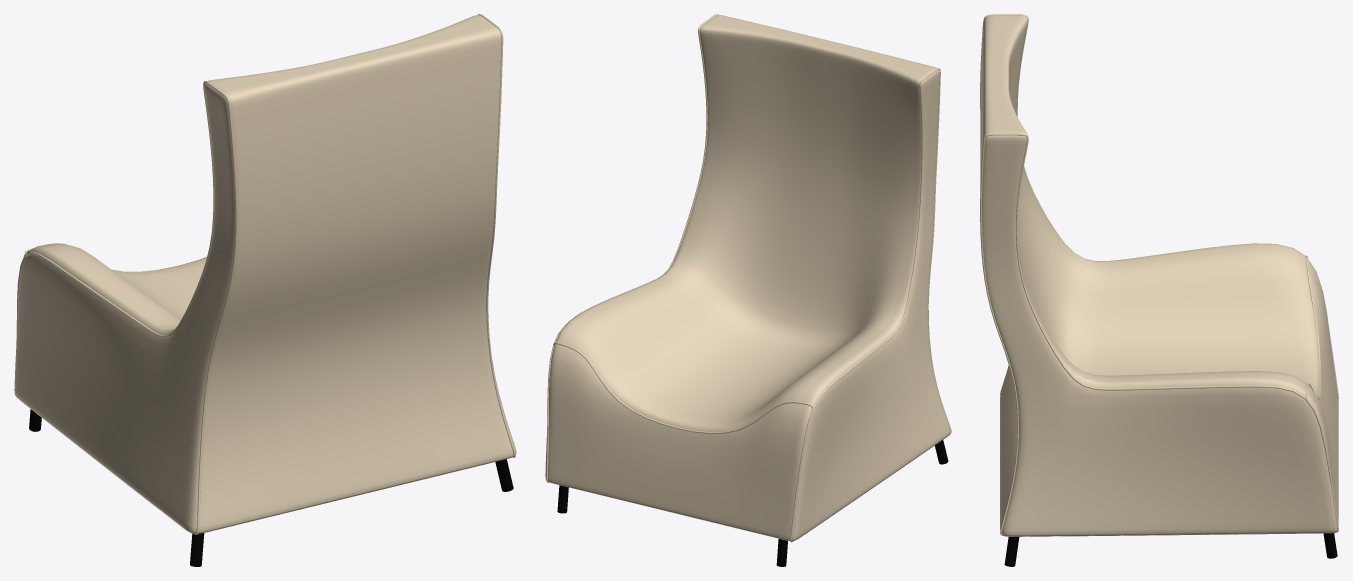
The model's file is sede.FBX.
The picture shows the model from 3 angles, left to right: view 1: azimuth 30°, elevation 25°; view 2: azimuth 150°, elevation 25°; view 3: azimuth 270°, elevation 25°; orthographic projection. The views are drawn at different scales.
Visible parts, largest first — view 1: Box09, Shape04; view 2: Box09, Shape04; view 3: Box09, Shape04.
Part boxes in pixels (box(x1,y1,x2,y2)): Box09: box(14, 15, 516, 533); Shape04: box(16, 14, 515, 534); Box09: box(545, 14, 951, 541); Shape04: box(546, 14, 940, 542); Box09: box(980, 15, 1338, 536); Shape04: box(980, 14, 1338, 536).
Size of the model in its own units: 793 by 842 by 1099.
